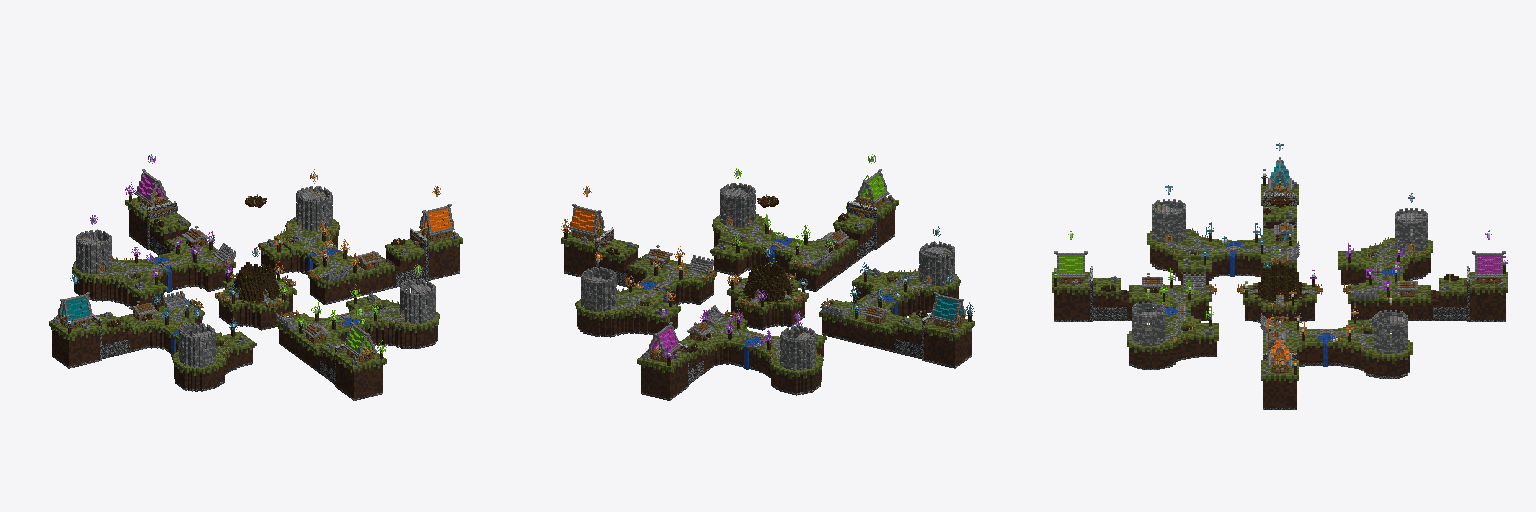
The picture shows the model from 3 angles: view 1: azimuth 30°, elevation 25°; view 2: azimuth 150°, elevation 25°; view 3: azimuth 270°, elevation 25°; orthographic projection.
Size of the model in its own units: 177 by 50.52 by 177.
56 materials, 56 textured.